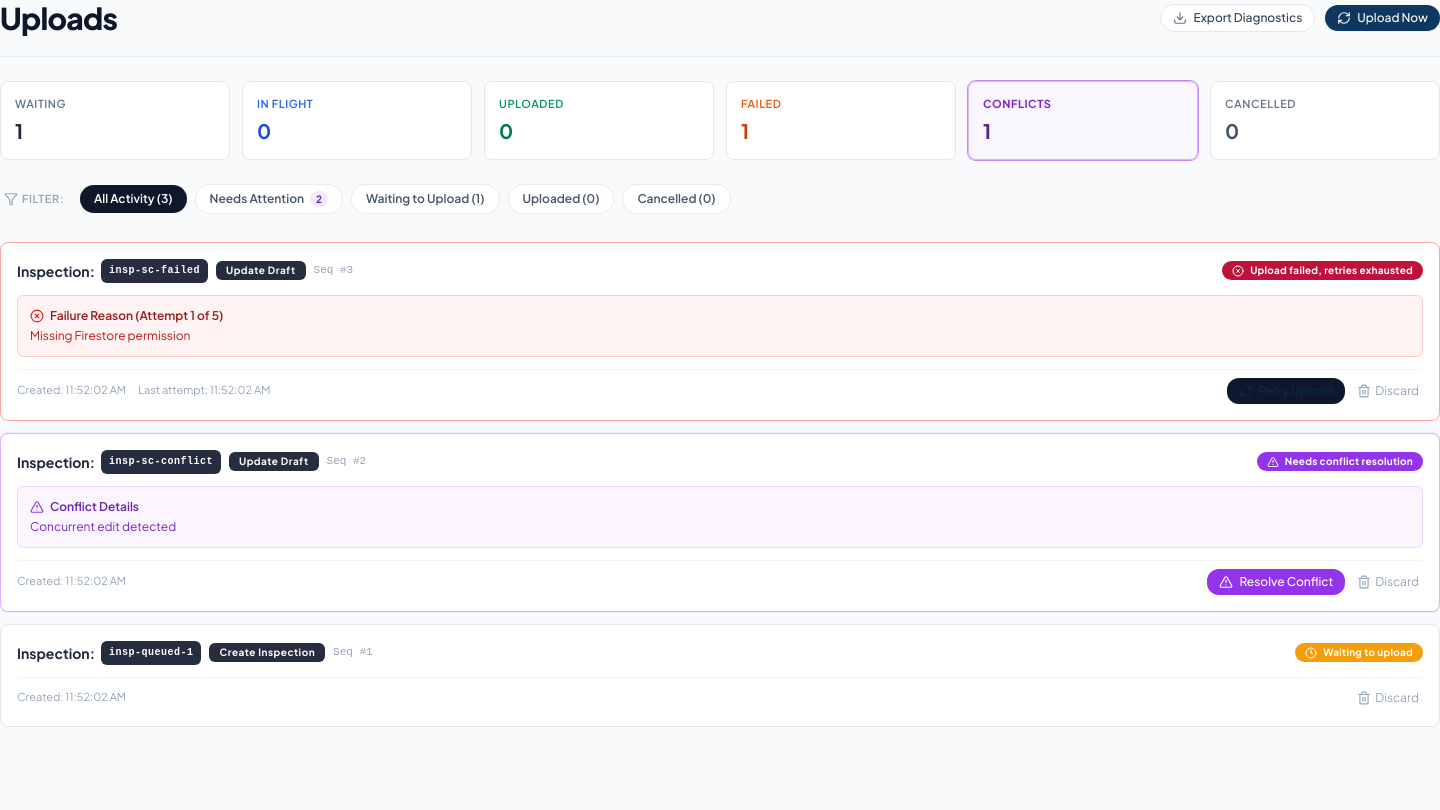
Test: UploadsScreen Component › safely discards a mutation while preserving photographic evidence in IndexedDB
The image size is (1440, 810).
expect the text "Upload failed, retries exhausted" is shown: met, box 1250,263 -> 1413,278
Step 1. Click the button "Discard" in the row of "Last attempt:" → (1388, 390), box 1353,378 -> 1423,402
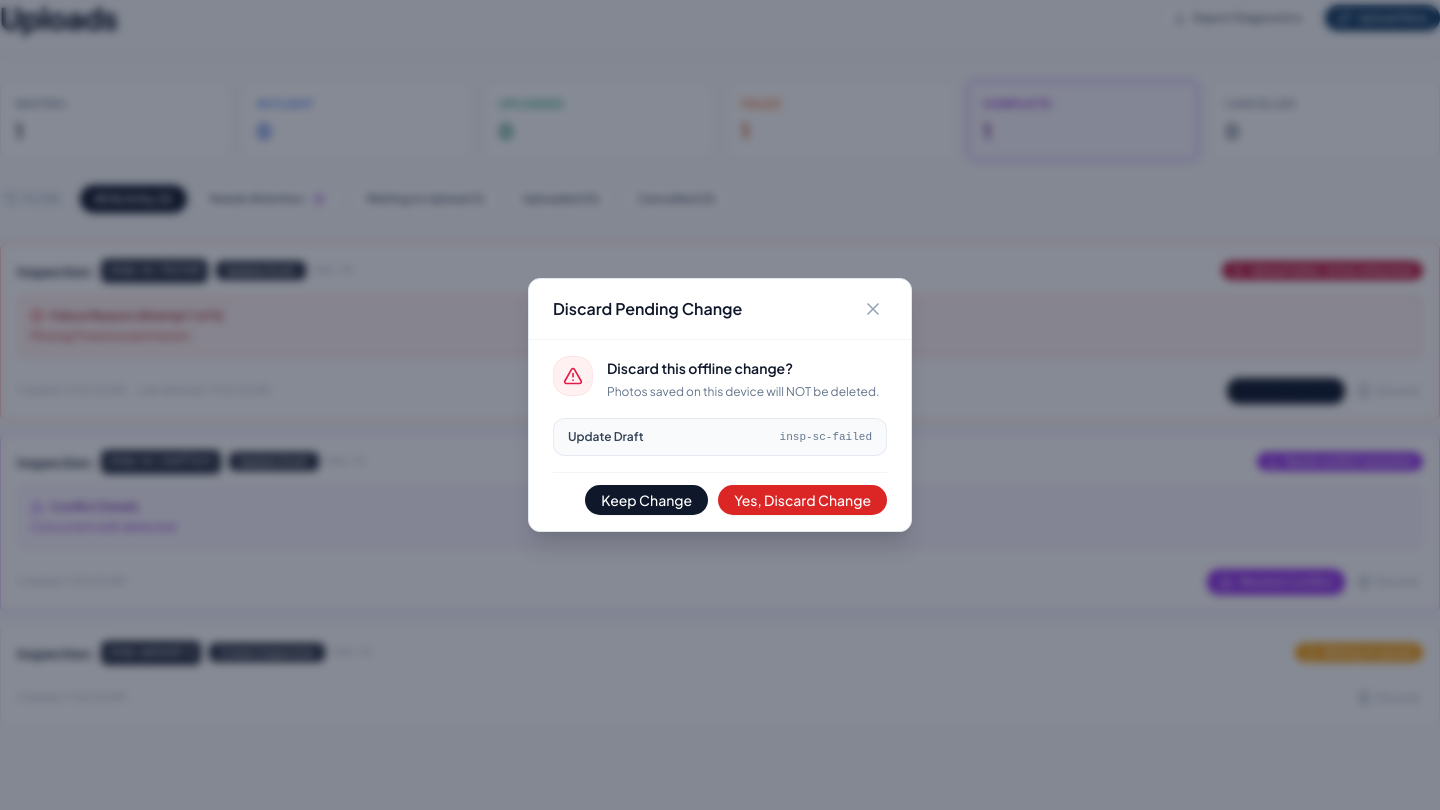
expect the heading "Discard Pending Change" is shown: met, box 553,297 -> 742,321
expect the text "Photos saved on this device will NOT be deleted." is shown: met, box 607,382 -> 879,402
Note: Confirm discard
Step 2. Click the button "Yes, Discard Change" → (803, 500), box 718,485 -> 887,515
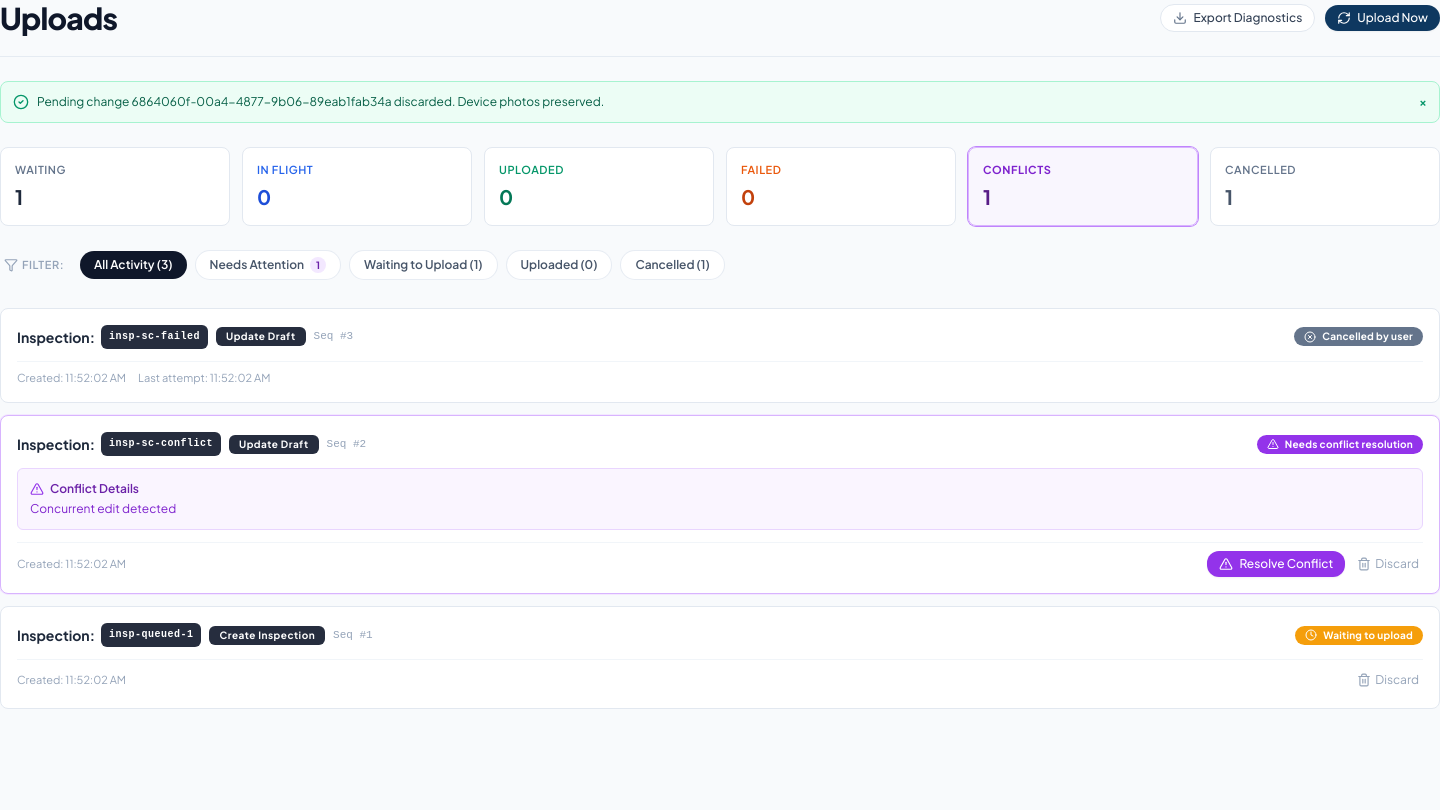
expect the text "discarded. Device photos preserved" is shown: met, box 37,94 -> 604,109
